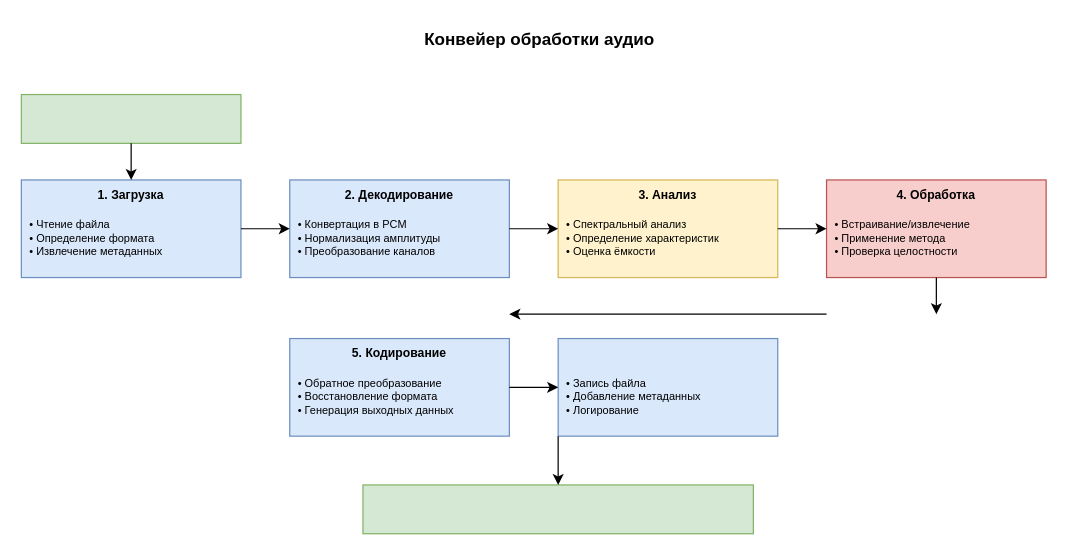
This 1068x555 diagram has some shape labels left out. Here are the shapes that lost their labels. From the top down, the box of each, then its label:
(20, 93, 241, 143): Вход: Аудиофайл (WAV/MP3)
(557, 337, 778, 436): 6. Сохранение
(362, 484, 753, 534): Выход: Модифицированный файл / Извлечённые данные
